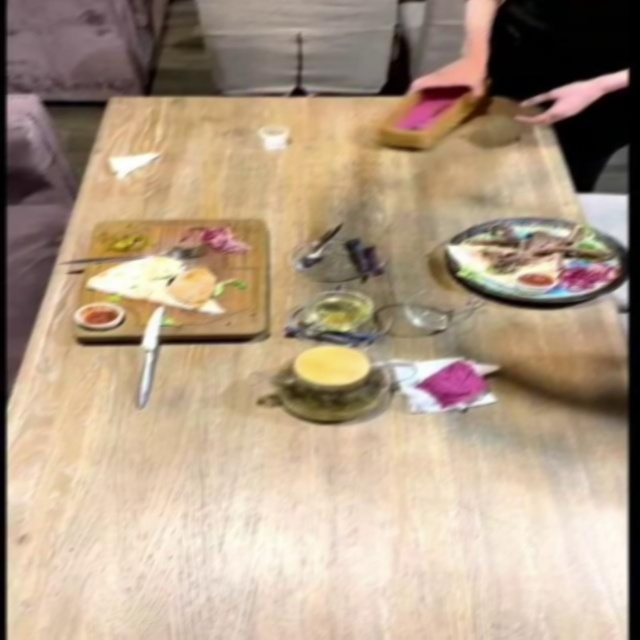meat: (67, 218, 273, 346), (454, 214, 640, 322)
tea: (264, 344, 410, 432)
